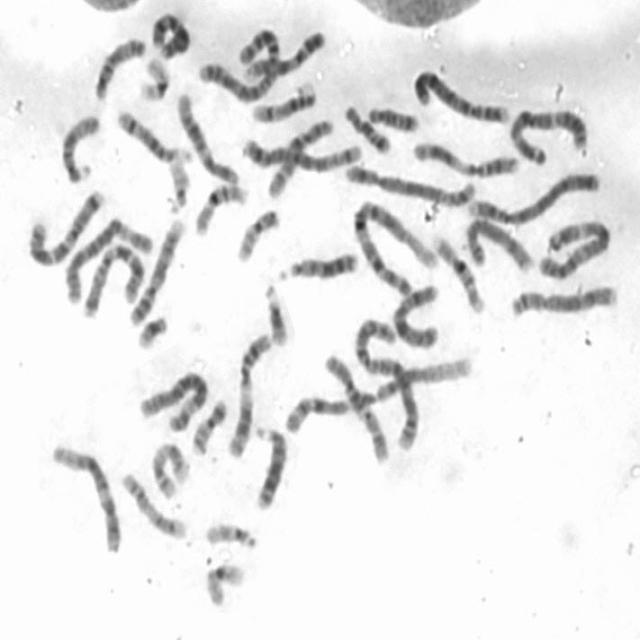A1: (279, 350, 471, 440), (347, 194, 440, 298)
A2: (350, 311, 422, 453), (194, 22, 284, 105)
A3: (505, 100, 590, 168), (535, 212, 613, 282)
B4: (463, 165, 602, 225), (410, 63, 512, 127)
B5: (341, 156, 478, 208), (238, 130, 364, 174)
C10: (321, 348, 392, 466), (262, 111, 336, 201)
C11: (223, 325, 275, 460), (409, 134, 523, 178)
C12: (47, 436, 123, 556), (171, 85, 241, 188)
C6: (60, 209, 154, 305), (135, 365, 210, 434)
C7: (24, 182, 107, 269), (78, 235, 148, 319)
C8: (506, 277, 620, 320), (459, 211, 535, 275)
C9: (125, 211, 188, 328), (238, 24, 328, 81)
D13: (249, 418, 289, 511), (273, 244, 360, 283)
D14: (112, 103, 195, 165), (246, 76, 318, 124)
D15: (90, 32, 148, 102), (56, 108, 102, 186)
E16: (428, 228, 487, 314), (191, 178, 251, 238)
E17: (118, 466, 189, 542), (146, 436, 192, 501)
E18: (340, 97, 394, 156), (364, 98, 420, 134)
F19: (202, 556, 248, 610), (135, 51, 173, 103)
F20: (232, 202, 283, 264), (187, 392, 230, 457)
G21: (259, 277, 291, 348), (133, 308, 170, 352)
G22: (201, 516, 260, 550), (163, 151, 193, 215)
X: (388, 280, 443, 350), (146, 6, 192, 60)
